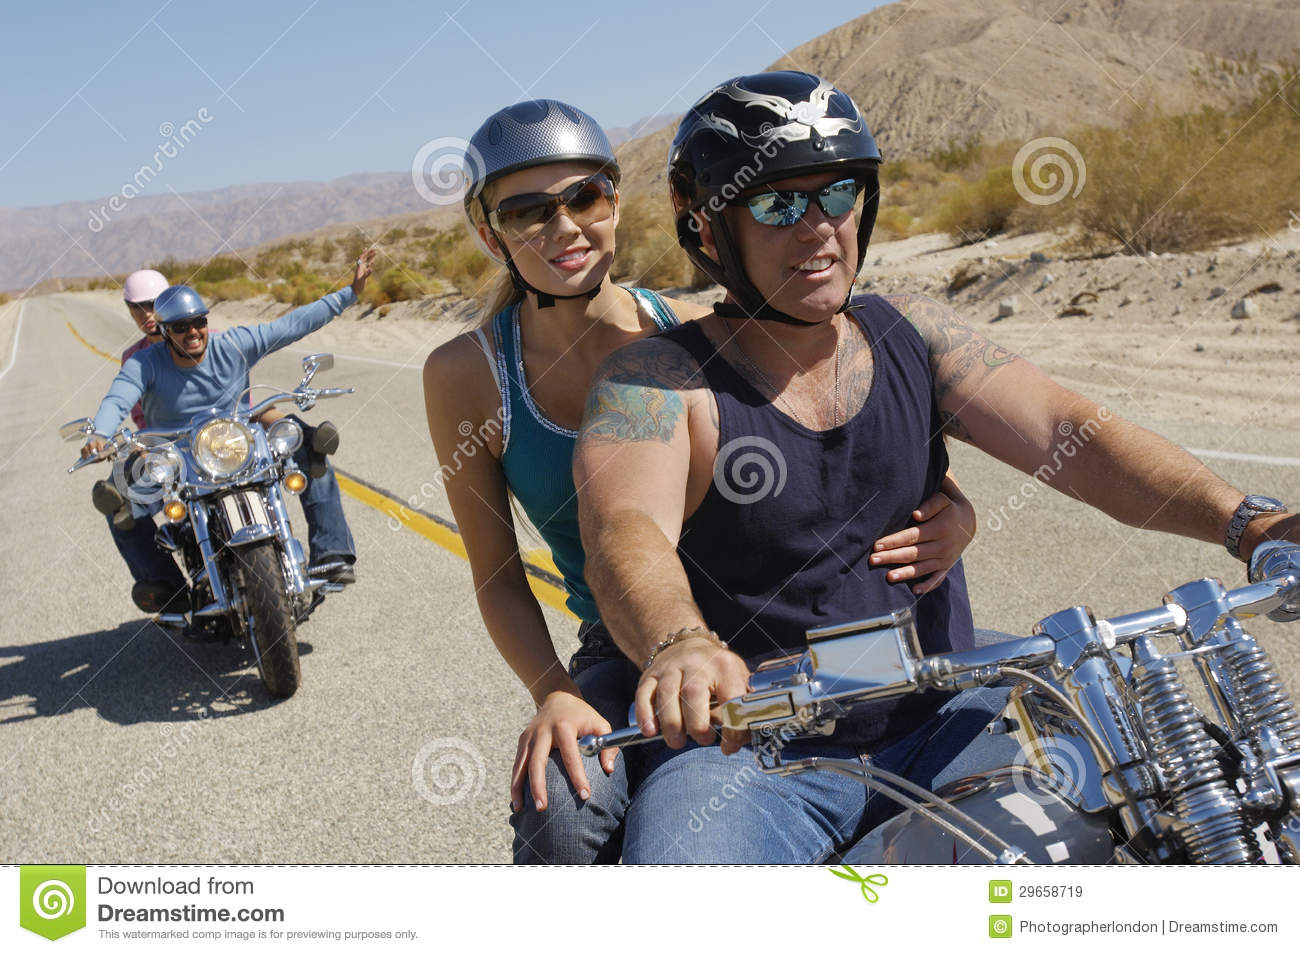helmet: (654, 80, 882, 183), (454, 96, 627, 183), (152, 290, 211, 324), (121, 272, 164, 311)
